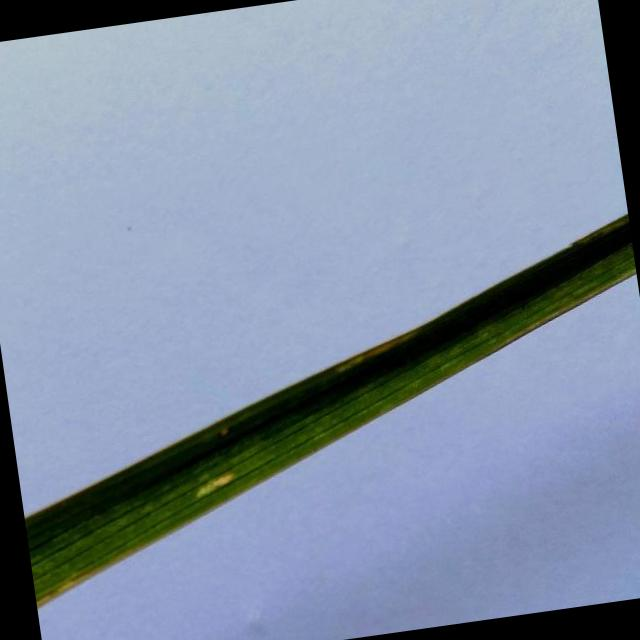Rice_Blast: (187, 468, 238, 496)
